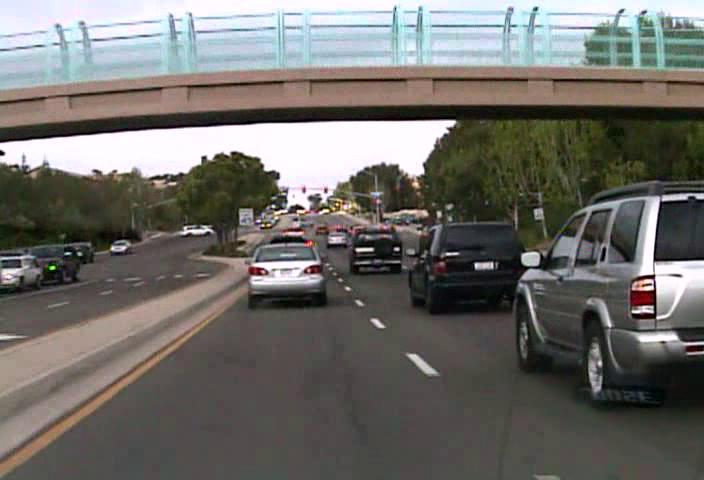speedLimit45: (238, 207, 254, 227)
